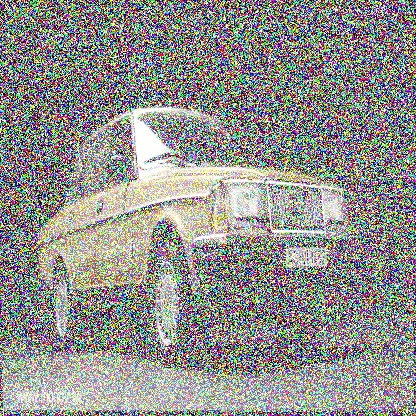Vehicle: (36, 108, 362, 374)
